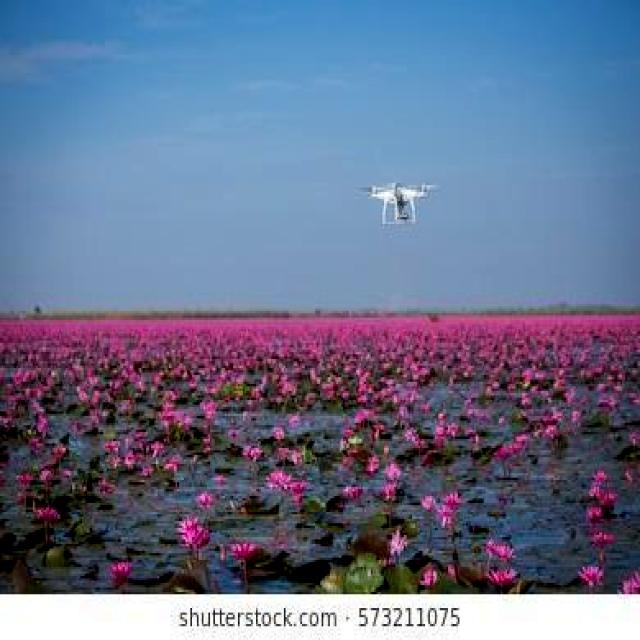drone: (365, 180, 431, 225)
